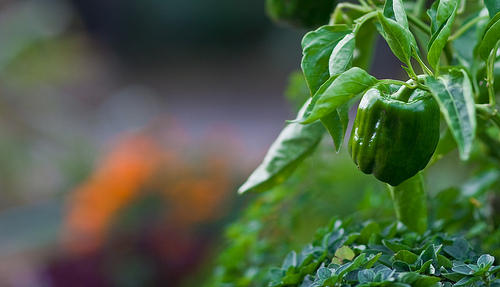capsicum: (347, 78, 442, 188)
